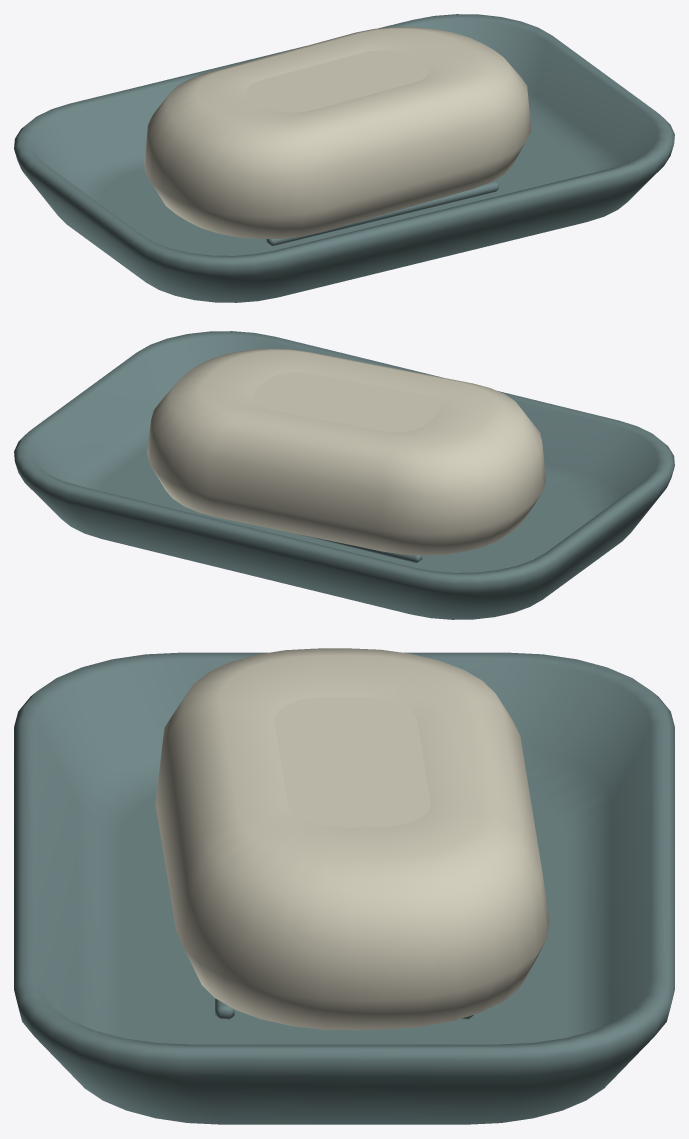
Rendered from SoapHygiene_LOD0.fbx.
3 renders of one model, top to bottom at view 1: azimuth 30°, elevation 25°; view 2: azimuth 150°, elevation 25°; view 3: azimuth 270°, elevation 25°, orthographic. The views are drawn at different scales.
Visible parts, largest first — view 1: Dish_LOD0, Soap_LOD0; view 2: Dish_LOD0, Soap_LOD0; view 3: Dish_LOD0, Soap_LOD0.
Boxes of the visible parts, <box> form: Dish_LOD0: <box>14,14,674,302</box>; Soap_LOD0: <box>144,27,531,238</box>; Dish_LOD0: <box>14,331,674,619</box>; Soap_LOD0: <box>147,348,545,555</box>; Dish_LOD0: <box>14,652,674,1124</box>; Soap_LOD0: <box>155,648,549,1030</box>.
Size of the model in its own units: 0.12 by 0.0292 by 0.083.
